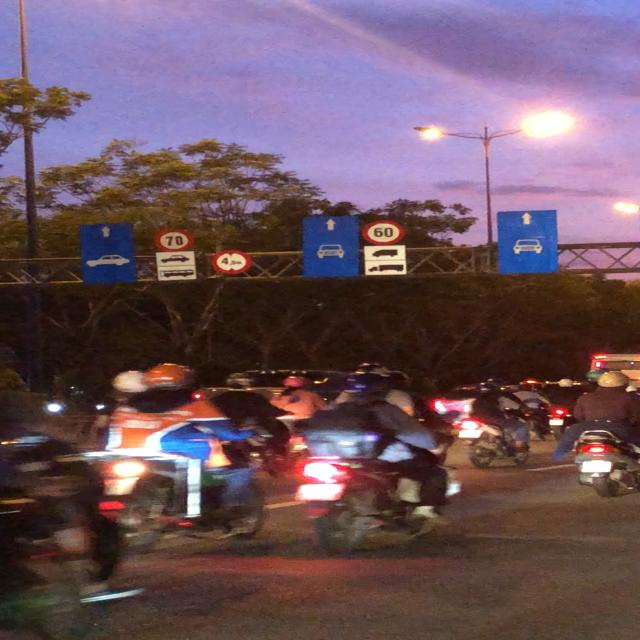Bien bao han che chieu cao: (208, 248, 255, 273)
Bien bao toc do toi da cho phep: (360, 217, 410, 247), (150, 227, 202, 252)
